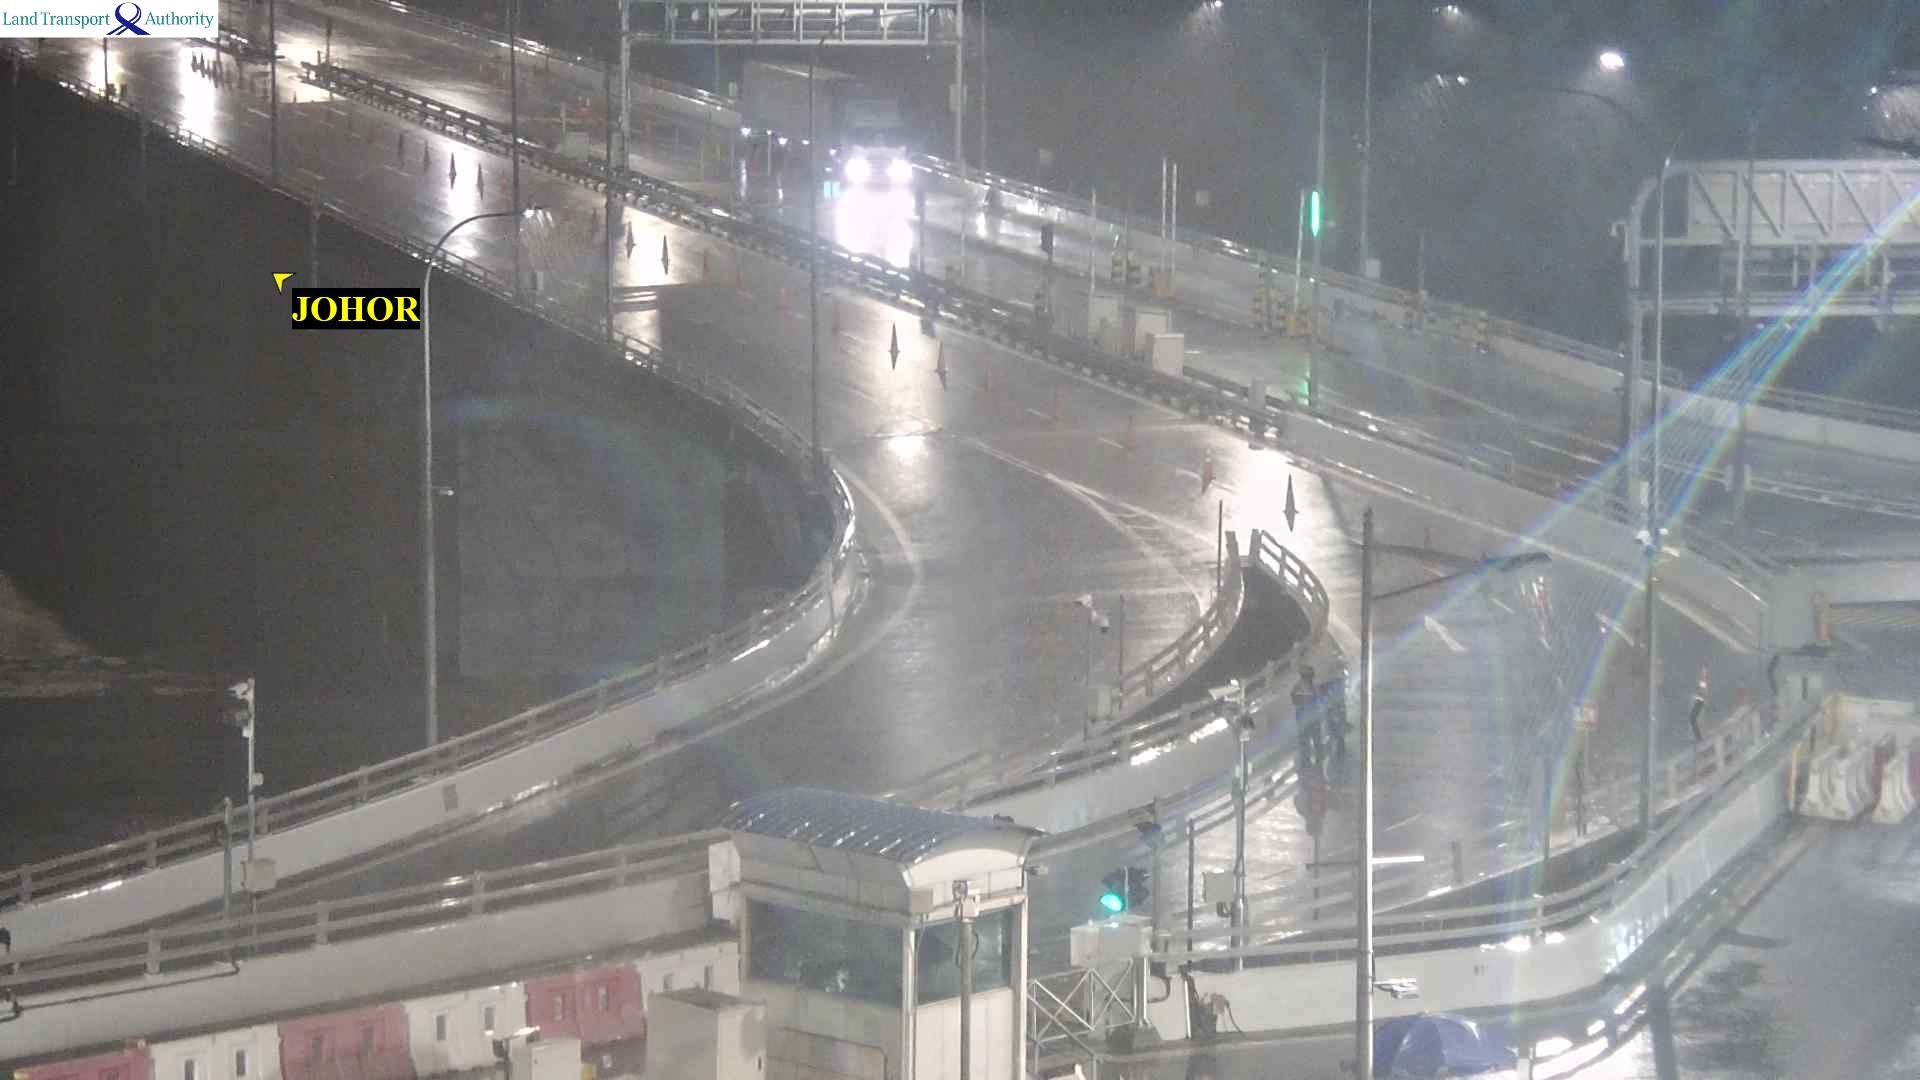vehicle-secondlink-singapore: (749, 66, 920, 185)
